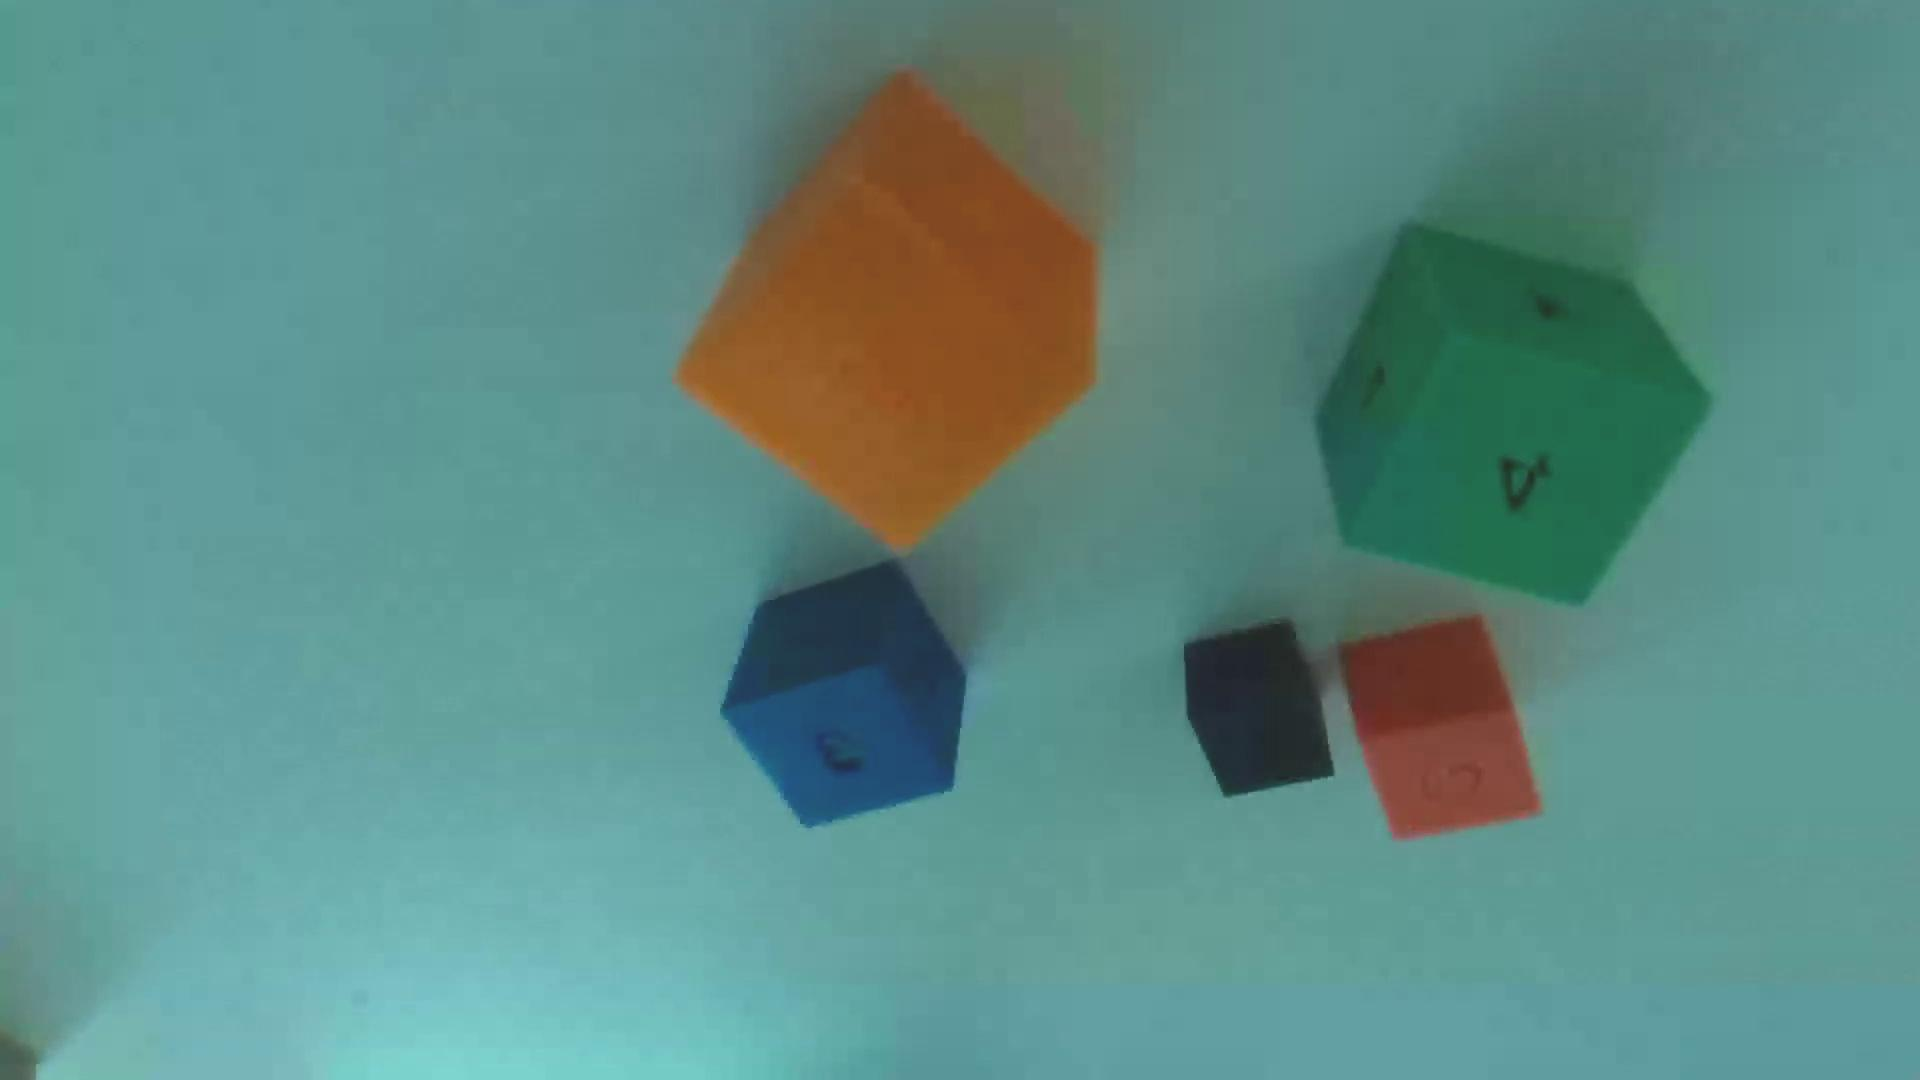black: (1182, 620, 1335, 796)
blue: (723, 560, 967, 825)
green: (1316, 225, 1709, 603)
orange: (678, 76, 1098, 547)
red: (1340, 616, 1540, 837)
